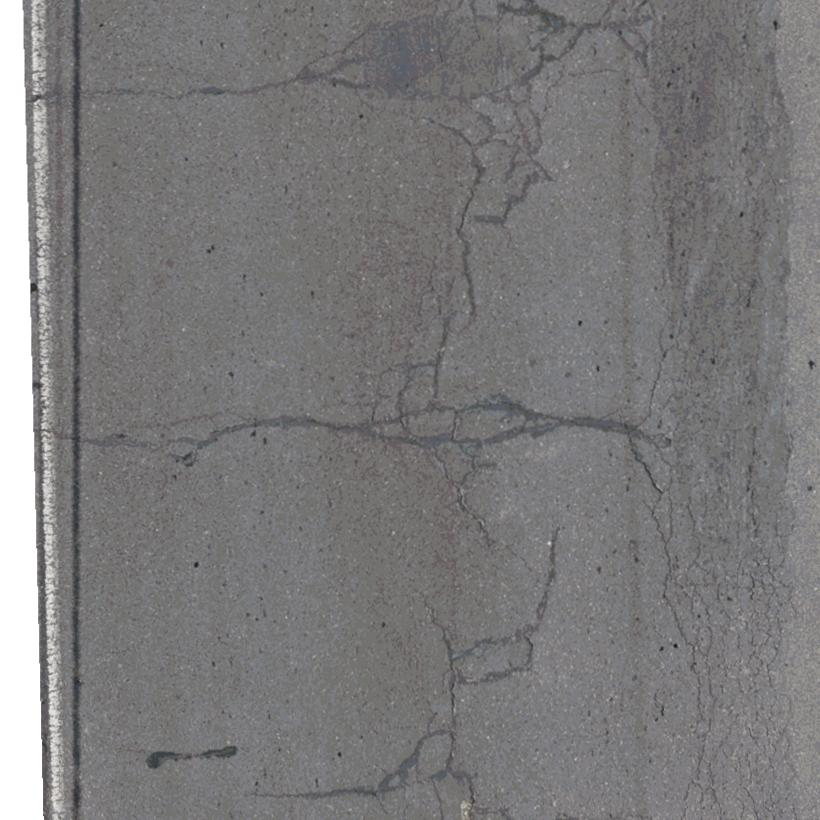GRIETA: (182, 415, 365, 467), (72, 0, 80, 819), (456, 490, 534, 573), (80, 78, 297, 102), (534, 526, 565, 626), (146, 746, 238, 769), (423, 597, 454, 661), (81, 436, 164, 450), (563, 417, 627, 434), (251, 789, 369, 798), (456, 220, 471, 266), (569, 67, 620, 76)
PIEL DE COCODRILO: (622, 326, 814, 819), (295, 0, 591, 227), (365, 266, 561, 490), (368, 623, 550, 819), (598, 0, 714, 127)
